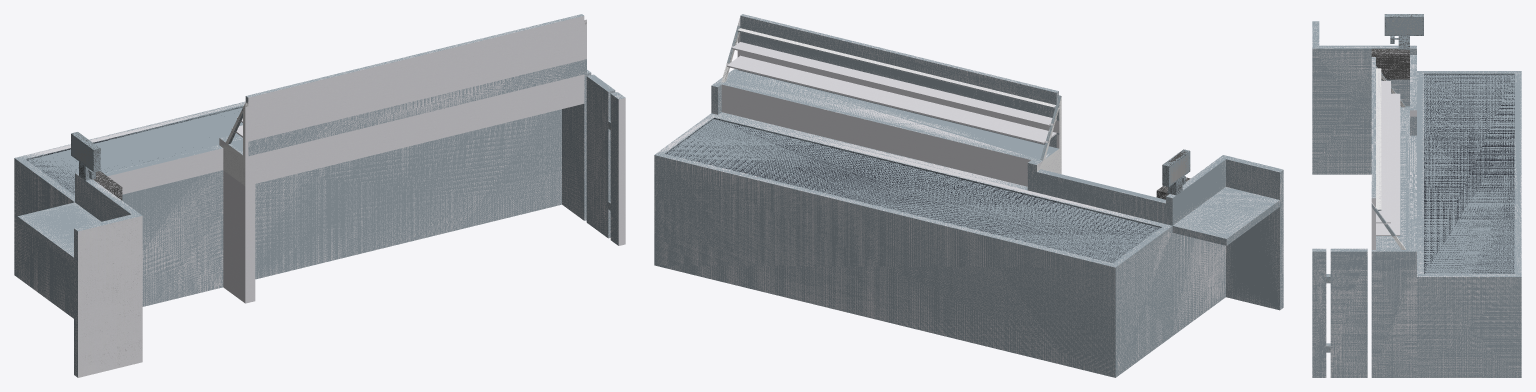
Rendered from checkOut.fbx.
3 renders of one model, left to right at view 1: azimuth 30°, elevation 25°; view 2: azimuth 150°, elevation 25°; view 3: azimuth 270°, elevation 25°, orthographic. The views are drawn at different scales.
Parts seen in each view (by area): view 1: Model; view 2: Model; view 3: Model.
Boxes of the visible parts, box(x1,y1,x2,y2) form: Model: box(14, 14, 625, 377); Model: box(654, 14, 1283, 377); Model: box(1312, 14, 1521, 377).
Size of the model in its own units: 3.91 by 1.4 by 1.5.
